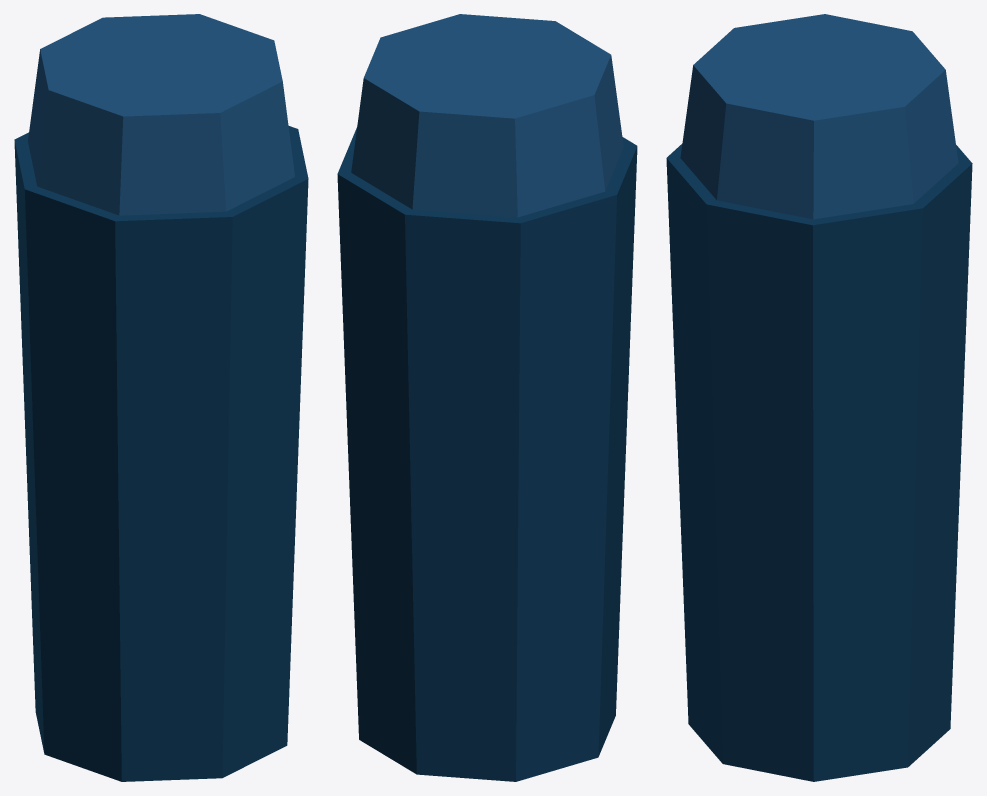
File: Container_Medium.fbx
The picture shows the model from 3 angles, left to right: view 1: azimuth 30°, elevation 25°; view 2: azimuth 150°, elevation 25°; view 3: azimuth 270°, elevation 25°; orthographic projection.
Parts seen in each view (by area): view 1: Cylinder.009; view 2: Cylinder.009; view 3: Cylinder.009.
Boxes of the visible parts, bbox=[...] form: Cylinder.009: bbox=[14, 14, 308, 781]; Cylinder.009: bbox=[337, 14, 637, 781]; Cylinder.009: bbox=[666, 14, 972, 781].
Size of the model in its own units: 9.03 by 21.46 by 9.03.
